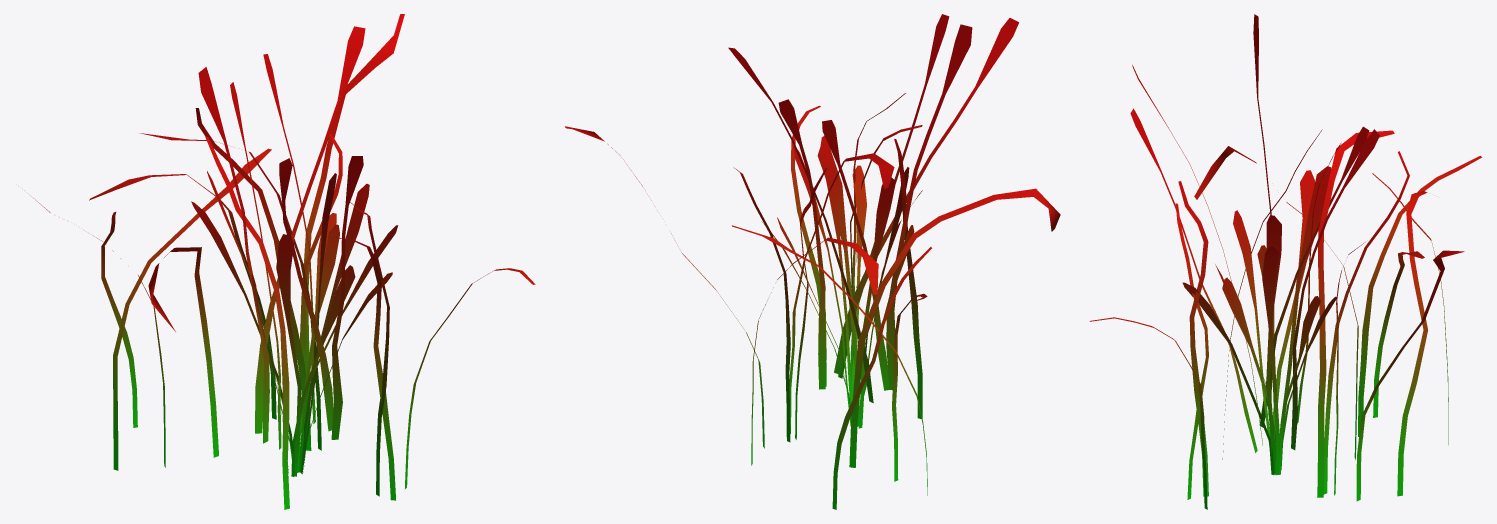
Rendered from Cotton Grass_LOD3_Var13_wlykecdia.fbx.
3 renders of one model, left to right at view 1: azimuth 30°, elevation 25°; view 2: azimuth 150°, elevation 25°; view 3: azimuth 270°, elevation 25°, orthographic. The views are drawn at different scales.
Visible parts, largest first — view 1: _9kd5_Var13_LOD3; view 2: _9kd5_Var13_LOD3; view 3: _9kd5_Var13_LOD3.
Part boxes in pixels (x1=…): _9kd5_Var13_LOD3: x1=24, y1=14, x2=535, y2=509; _9kd5_Var13_LOD3: x1=565, y1=14, x2=1060, y2=509; _9kd5_Var13_LOD3: x1=1089, y1=14, x2=1481, y2=509.
Size of the model in its own units: 16.93 by 18.52 by 15.9.
